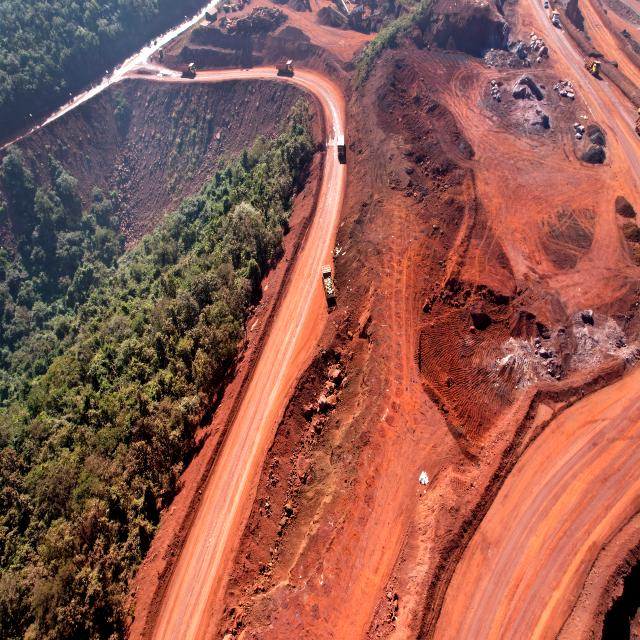Dumper truck: (320, 264, 337, 298), (587, 56, 601, 77), (276, 60, 294, 74), (179, 63, 196, 75), (337, 135, 345, 158), (550, 8, 559, 24), (635, 113, 640, 135)
Excavator: (237, 0, 245, 9)
car: (544, 0, 548, 9)
